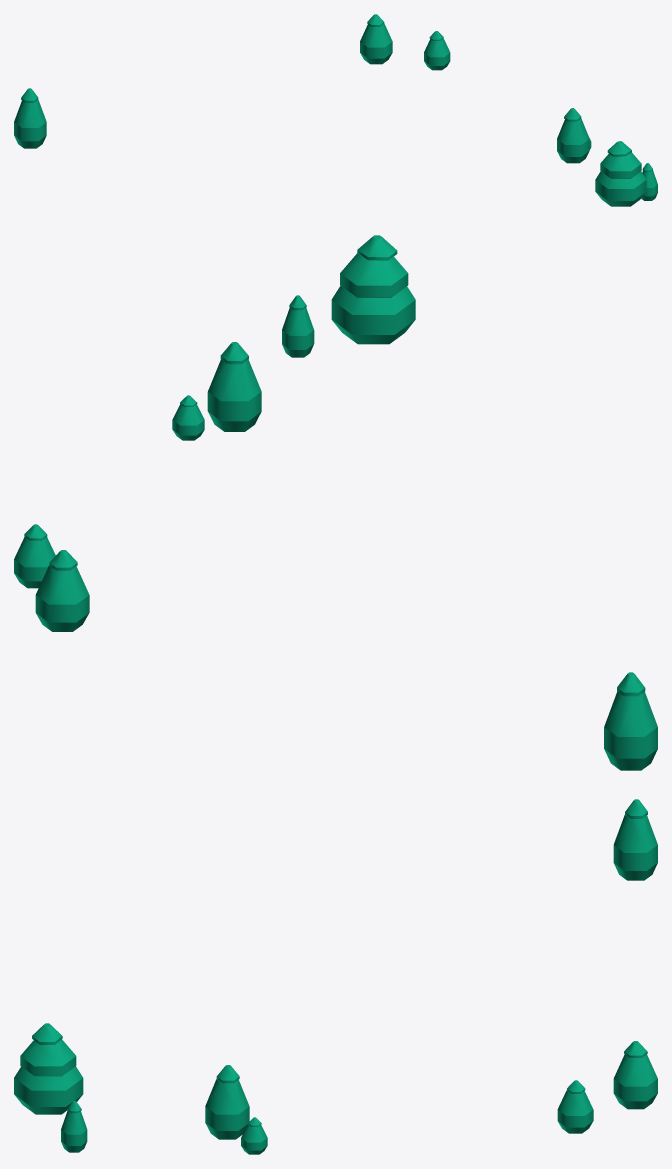
File: Tree Leafs.fbx
3 renders of one model, top to bottom at view 1: azimuth 30°, elevation 25°; view 2: azimuth 150°, elevation 25°; view 3: azimuth 270°, elevation 25°, orthographic. The views are drawn at different scales.
Parts seen in each view (by area): view 1: mergedBlocks; view 2: mergedBlocks; view 3: mergedBlocks.
Part boxes in pixels (x1,y1,x2,y2): mergedBlocks: (14, 14, 657, 206); mergedBlocks: (14, 235, 657, 770); mergedBlocks: (14, 799, 657, 1154).
Bounding box in the file's own units: 112 × 18.52 × 107.
